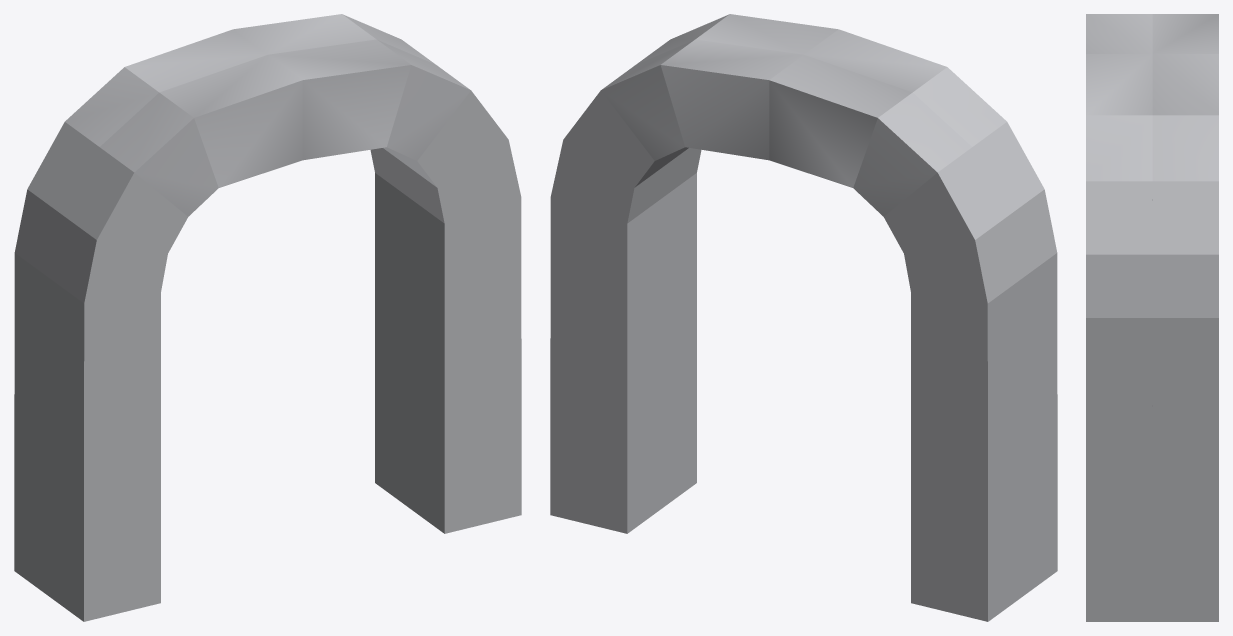
Rendered from Wall_Doorway.fbx.
The picture shows the model from 3 angles, left to right: view 1: azimuth 30°, elevation 25°; view 2: azimuth 150°, elevation 25°; view 3: azimuth 270°, elevation 25°; orthographic projection. The views are drawn at different scales.
Parts seen in each view (by area): view 1: Wall_Doorway_Door_001; view 2: Wall_Doorway_Door_001; view 3: Wall_Doorway_Door_001.
Part boxes in pixels (x1=…): Wall_Doorway_Door_001: x1=14, y1=14, x2=521, y2=621; Wall_Doorway_Door_001: x1=550, y1=14, x2=1057, y2=621; Wall_Doorway_Door_001: x1=1086, y1=14, x2=1218, y2=621.
Bounding box in the file's own units: 1.14 × 1.21 × 0.3127.
1 material, 1 textured.
